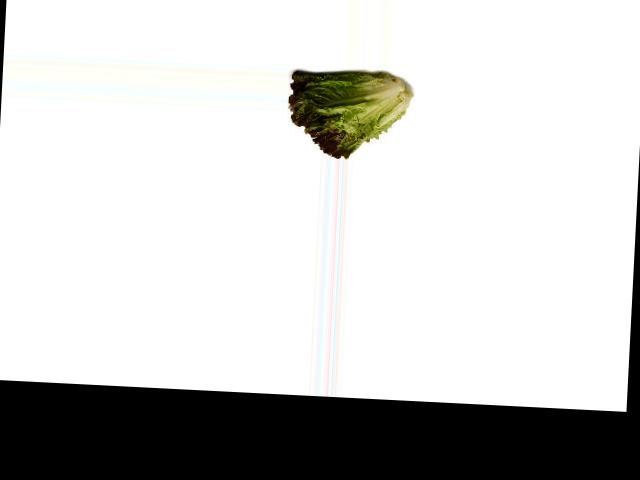lettuce: (283, 69, 412, 160)
